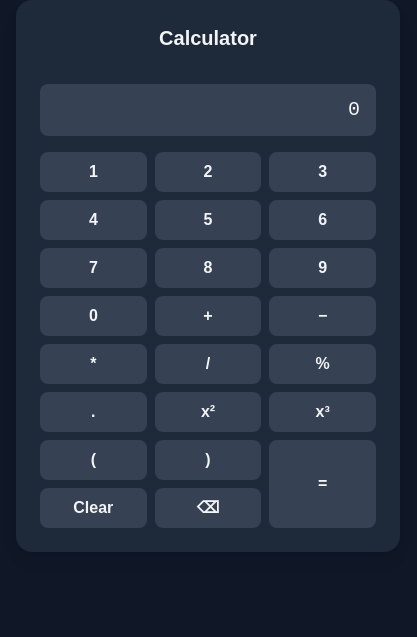
Test: Calculator › adds two numbers
Click the button "1" at [93, 172], box [40,152,147,192]
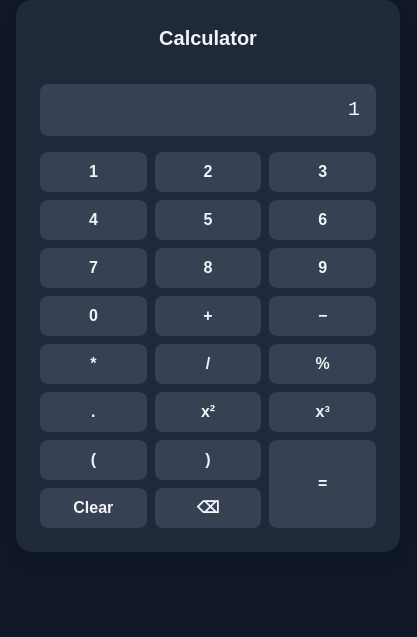
Click the button "2" at [208, 172], box [155,152,261,192]
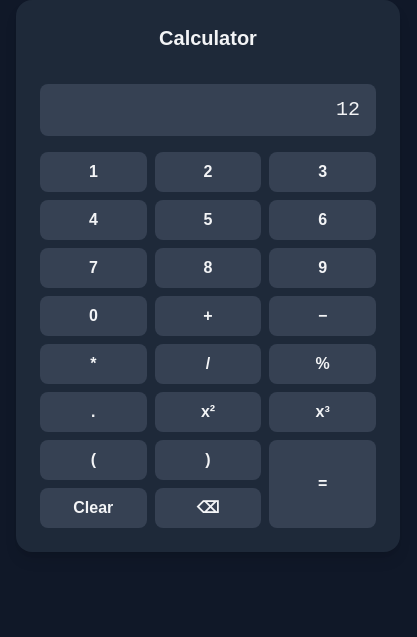
Click the button "+" at [208, 316], box [155,296,261,336]
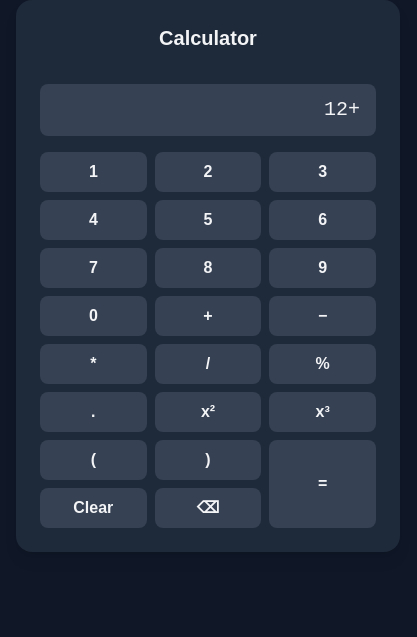
Click the button "3" at [323, 172], box [269,152,376,192]
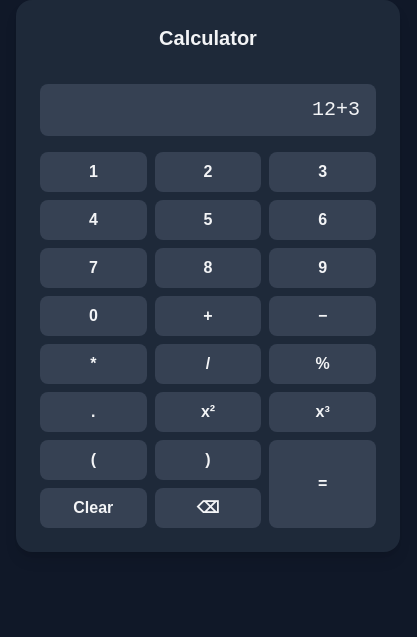
Click the button with test id "=" at [323, 484], box [269,440,376,528]
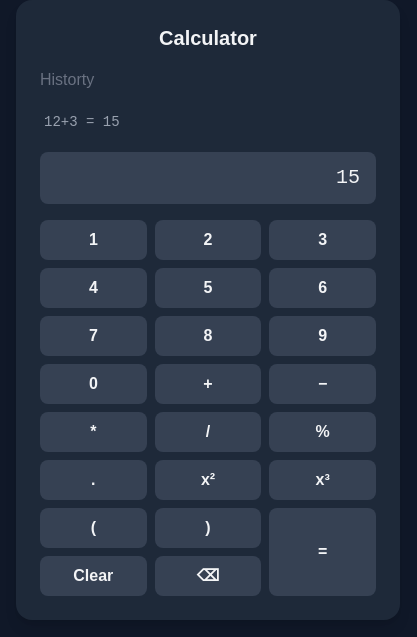
Result: the text with test id "display" reads "15" at [336,166,360,189]
